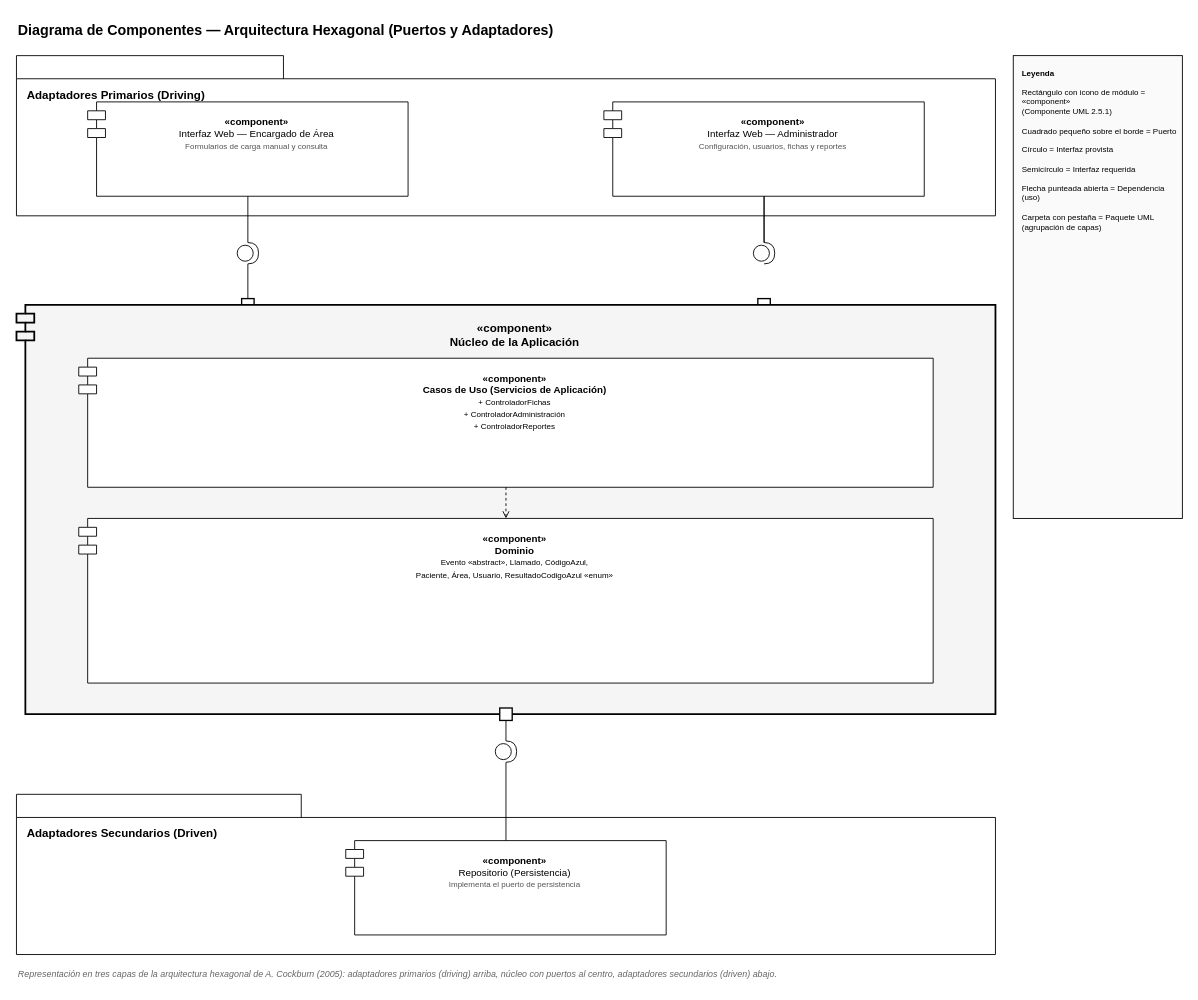
Image size: 1198x1000. Some labels were removed from this diagram. Each missing label, with the centre of its shape:
"Puerto Administrador (Configuración, Usuarios, Fichas, Reportes)" belongs at point (763, 253).
"Puerto de Persistencia (Repositorio)" belongs at point (505, 751).
"Puerto Encargado (Registro y Consulta)" belongs at point (247, 253).
